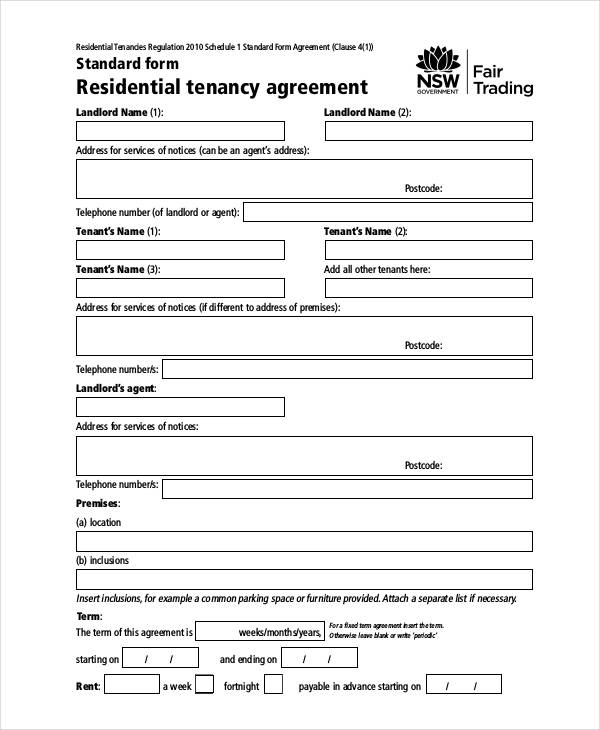checkbox: (263, 673, 285, 696), (193, 673, 215, 695)
textbox: (74, 156, 534, 201), (75, 314, 535, 357), (74, 434, 535, 476), (74, 527, 535, 553), (74, 566, 535, 592), (159, 357, 535, 382), (160, 477, 535, 501), (241, 199, 536, 225), (74, 118, 289, 145), (74, 236, 287, 262), (324, 118, 535, 143), (323, 237, 536, 261), (74, 276, 287, 300), (324, 275, 535, 299), (74, 395, 287, 418), (193, 619, 327, 643), (277, 646, 360, 672), (425, 672, 503, 699), (119, 645, 201, 669), (103, 672, 162, 695), (449, 672, 476, 697), (476, 672, 503, 697), (331, 646, 359, 670), (147, 644, 173, 669), (172, 645, 200, 668), (306, 645, 330, 671), (278, 646, 305, 669), (424, 672, 449, 696), (120, 645, 146, 668)
